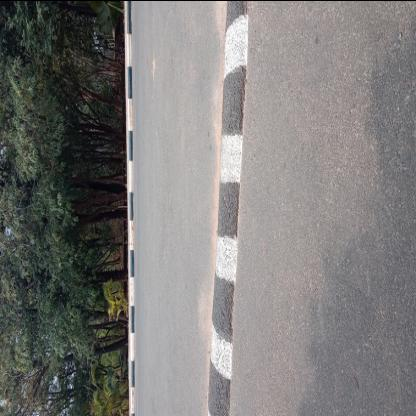speed-bumps: (200, 1, 255, 415)
